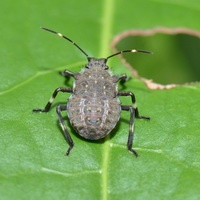insect: (33, 27, 151, 156)
